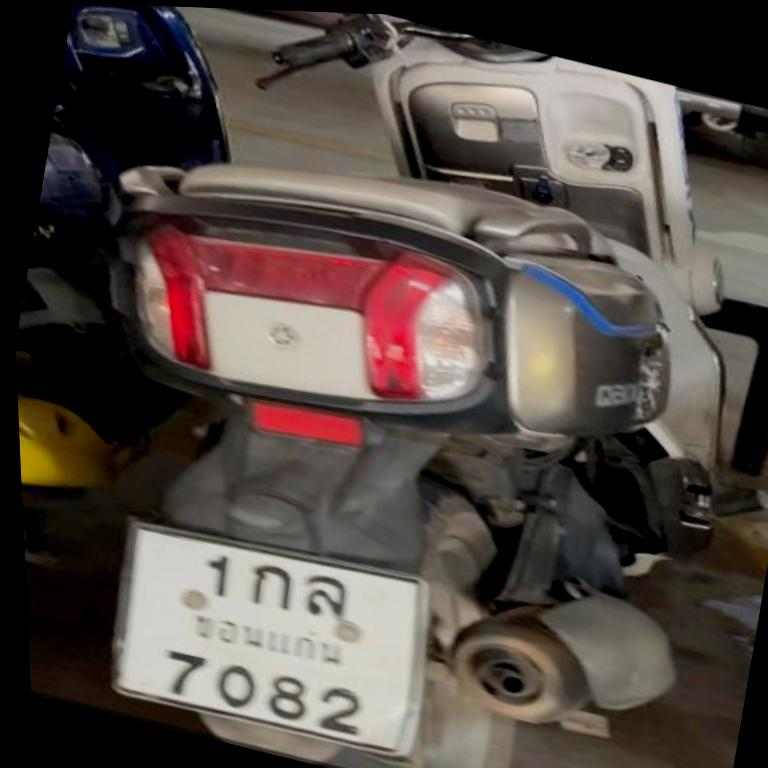license plate: (115, 522, 428, 752)
